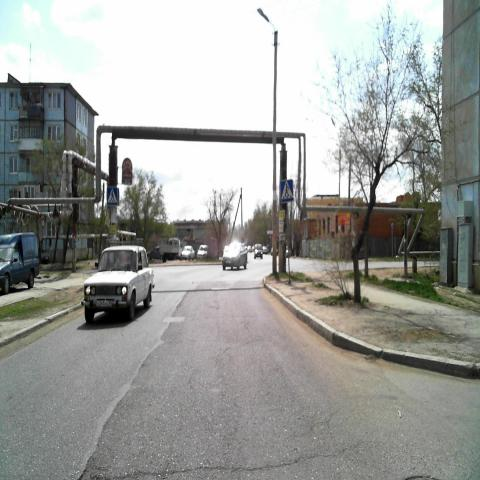5_19_1: (280, 179, 293, 202), (108, 186, 118, 205)
